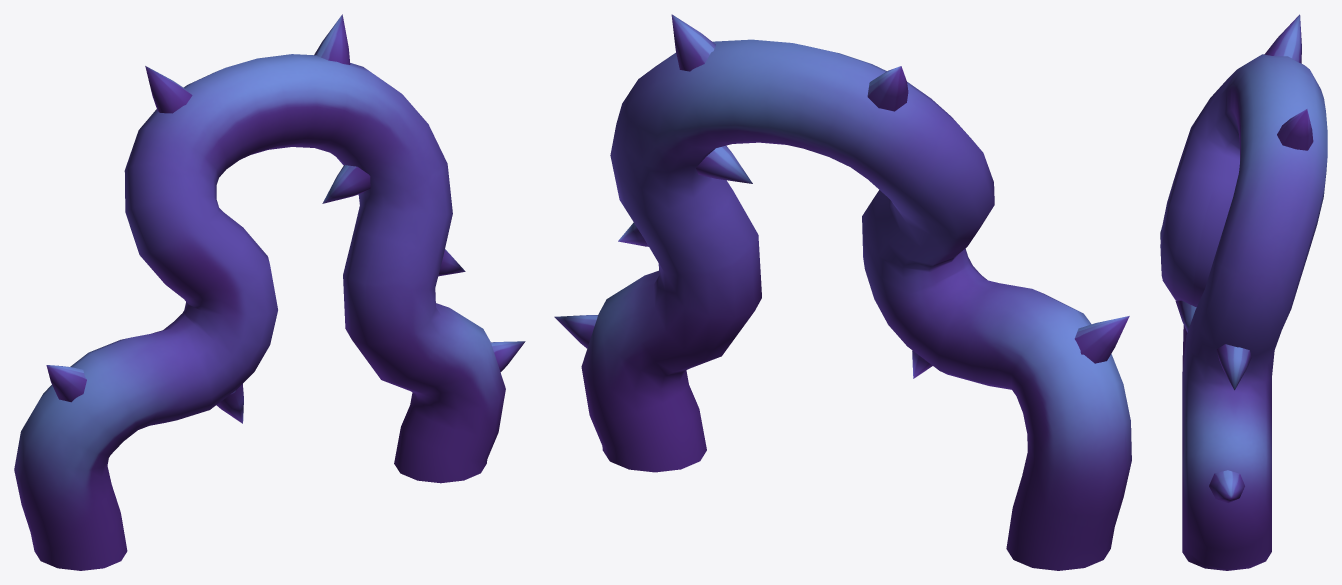
Rendered from ThornVine_L_01.fbx.
3 views of the same model, side by side, from view 1: azimuth 30°, elevation 25°; view 2: azimuth 150°, elevation 25°; view 3: azimuth 270°, elevation 25° (orthographic). The views are drawn at different scales.
Visible parts, largest first — view 1: ThornVine_L_1; view 2: ThornVine_L_1; view 3: ThornVine_L_1.
Part boxes in pixels (left/top/right/bottom): ThornVine_L_1: left=14, top=14, right=525, bottom=570; ThornVine_L_1: left=554, top=14, right=1131, bottom=570; ThornVine_L_1: left=1160, top=14, right=1327, bottom=570.
Bounding box in the file's own units: 113 × 92.43 × 33.62.
